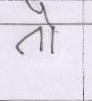au_matra: (30, 1, 63, 52)
